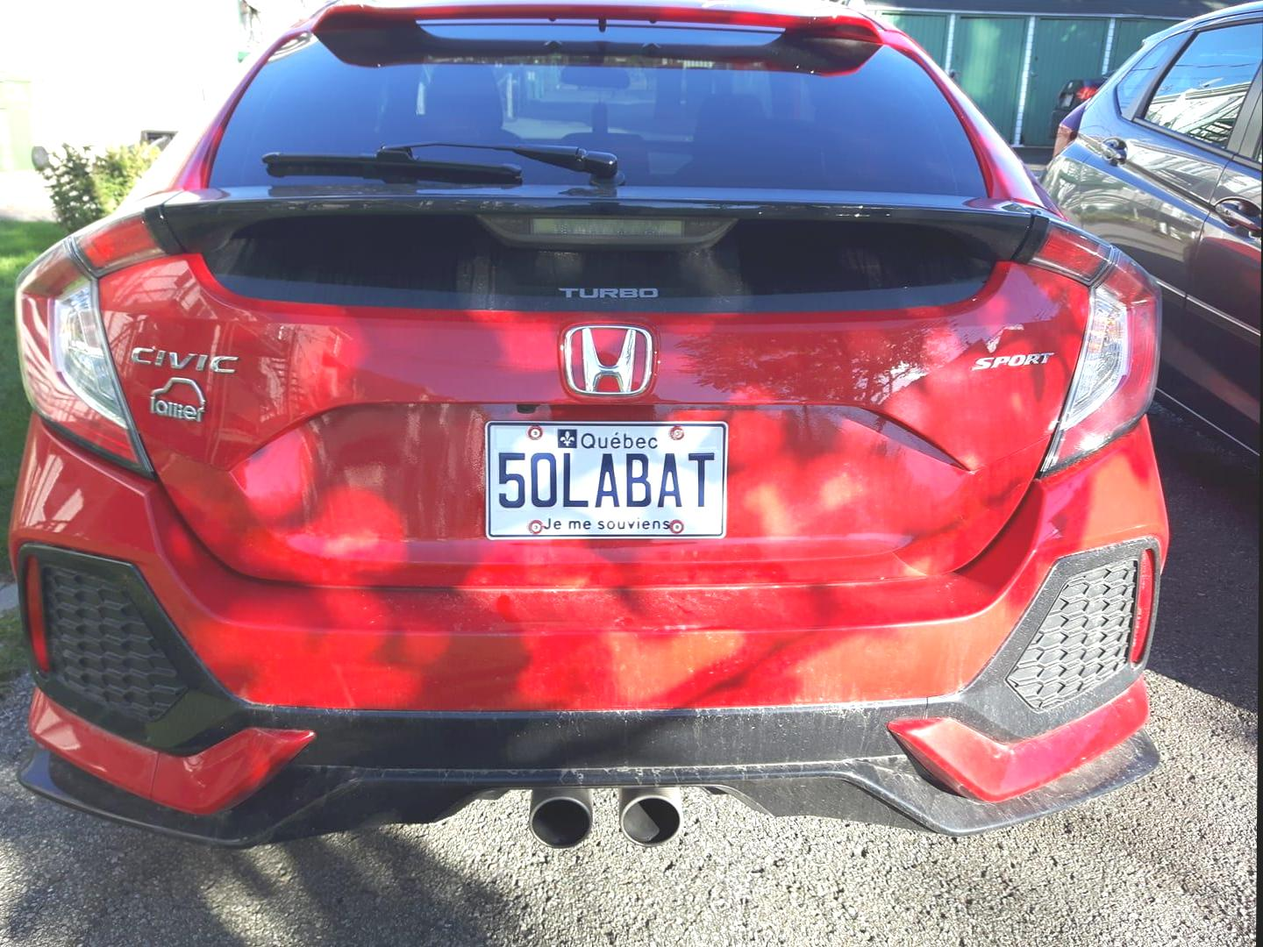License_Plate: (471, 402, 750, 564)
